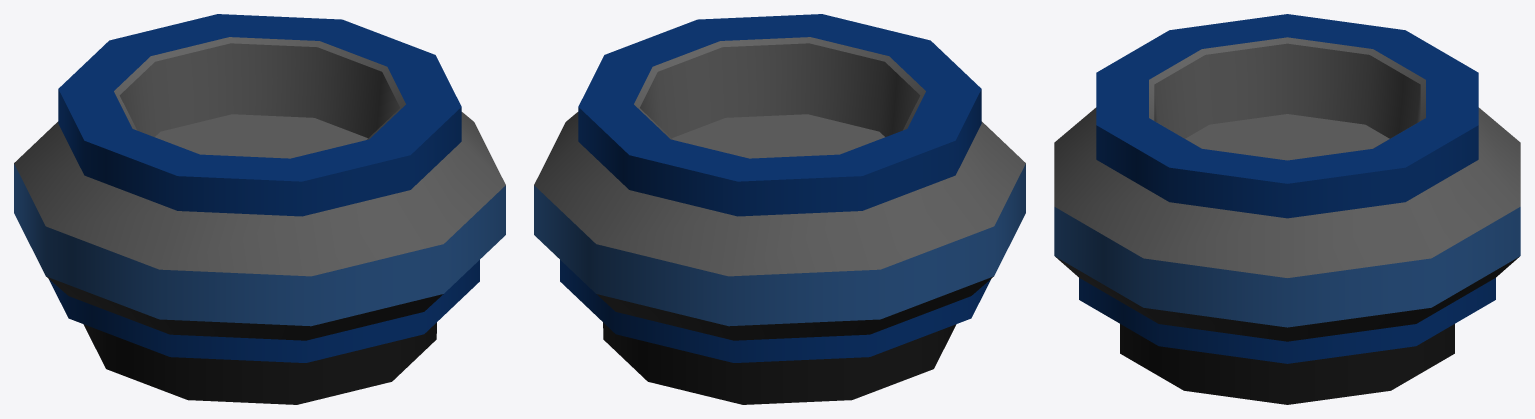
Rendered from SM_Modifier_Blue.fbx.
3 renders of one model, left to right at view 1: azimuth 30°, elevation 25°; view 2: azimuth 150°, elevation 25°; view 3: azimuth 270°, elevation 25°, orthographic.
Visible parts, largest first — view 1: SM_Modifier_Blue; view 2: SM_Modifier_Blue; view 3: SM_Modifier_Blue.
Part boxes in pixels (x1,y1,x2,y2): SM_Modifier_Blue: (14,14,505,404); SM_Modifier_Blue: (534,14,1025,404); SM_Modifier_Blue: (1054,14,1520,404).
Bounding box in the file's own units: 1.98 × 1.03 × 1.88.
